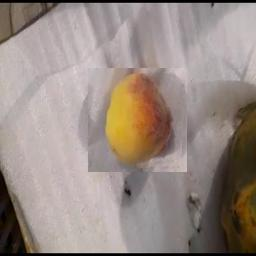Peach Fresh: (88, 68, 187, 172)
